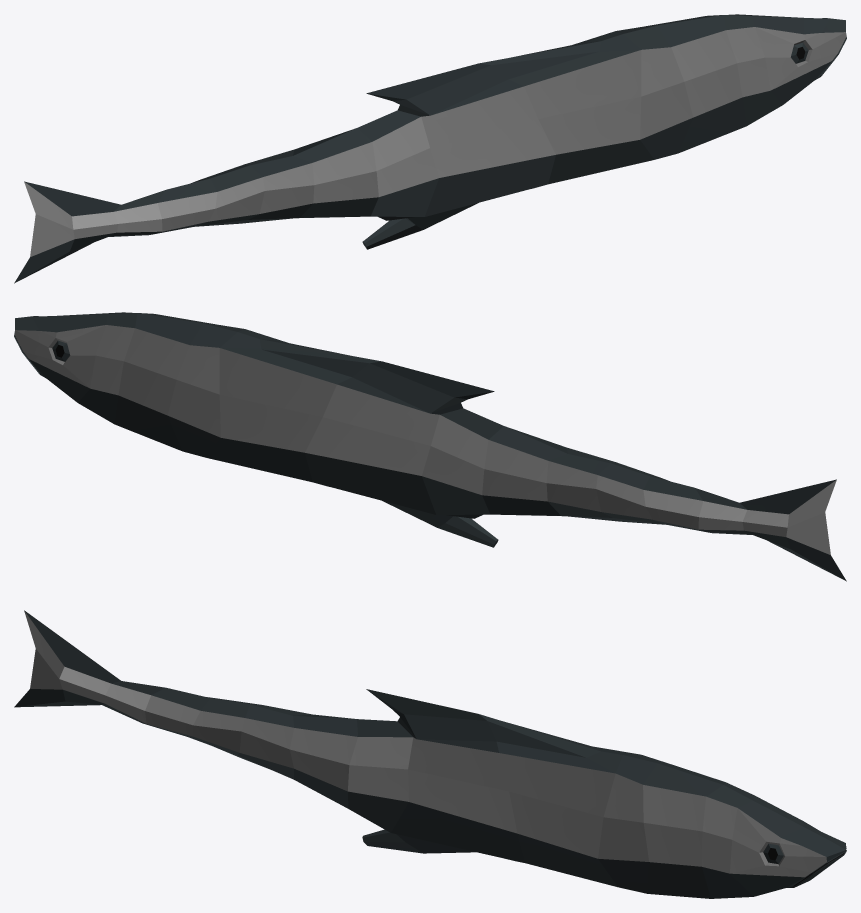
File: FishV3.fbx
3 views of the same model, one above another, from view 1: azimuth 30°, elevation 25°; view 2: azimuth 150°, elevation 25°; view 3: azimuth 330°, elevation 25° (orthographic).
Parts seen in each view (by area): view 1: FishV3; view 2: FishV3; view 3: FishV3.
Part boxes in pixels (box(x1,y1,x2,y2)): FishV3: box(14, 14, 846, 283); FishV3: box(14, 312, 846, 581); FishV3: box(14, 610, 846, 898).
Bounding box in the file's own units: 86.8 × 15.87 × 7.98.
